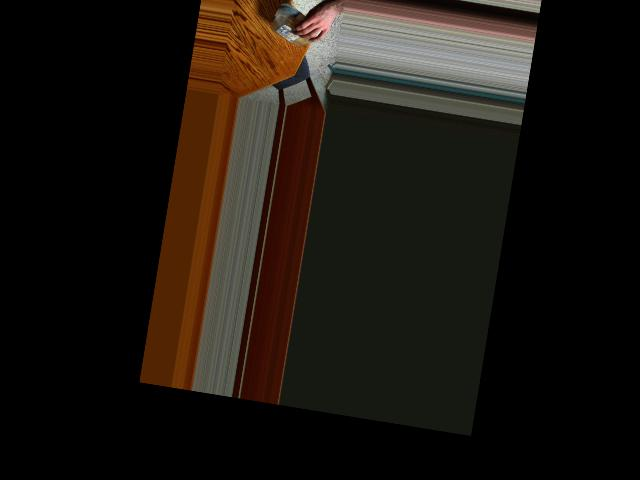cheese: (271, 6, 316, 42)
